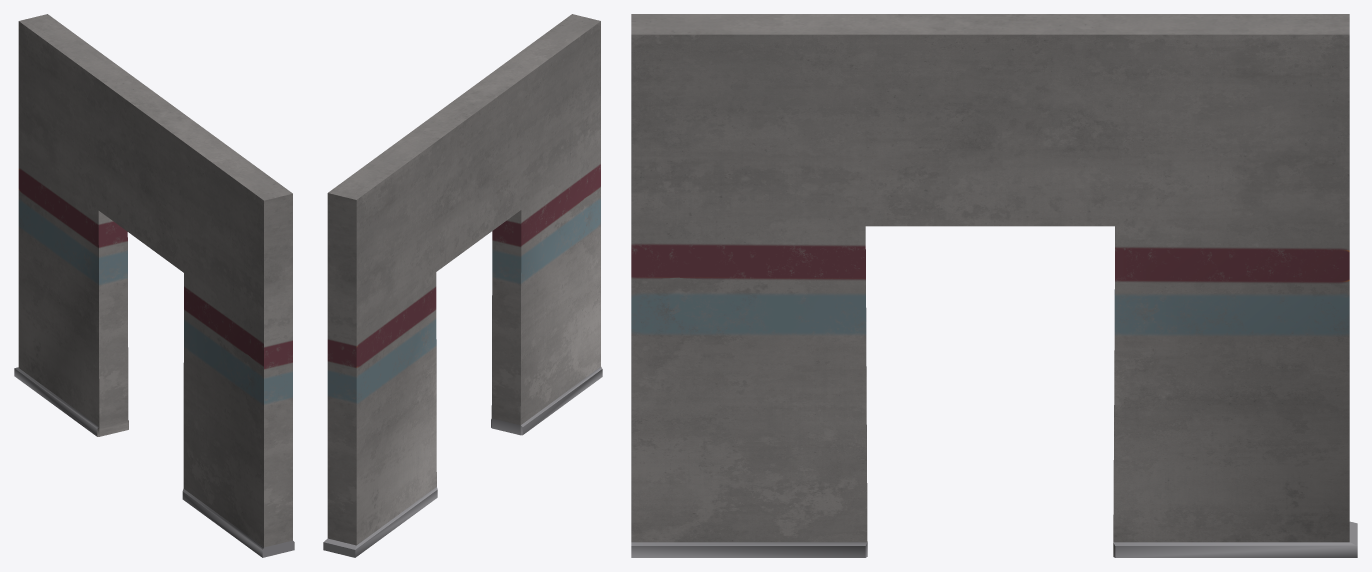
The model's file is Wall_SingleDoorway.fbx.
The picture shows the model from 3 angles, left to right: view 1: azimuth 30°, elevation 25°; view 2: azimuth 150°, elevation 25°; view 3: azimuth 270°, elevation 25°; orthographic projection. The views are drawn at different scales.
Parts seen in each view (by area): view 1: Wall_SingleDoorway; view 2: Wall_SingleDoorway; view 3: Wall_SingleDoorway.
Part boxes in pixels (x1,y1,x2,y2): Wall_SingleDoorway: (14, 14, 294, 557); Wall_SingleDoorway: (323, 14, 602, 557); Wall_SingleDoorway: (631, 14, 1357, 557).
Bounding box in the file's own units: 56.1 × 600 × 757.
